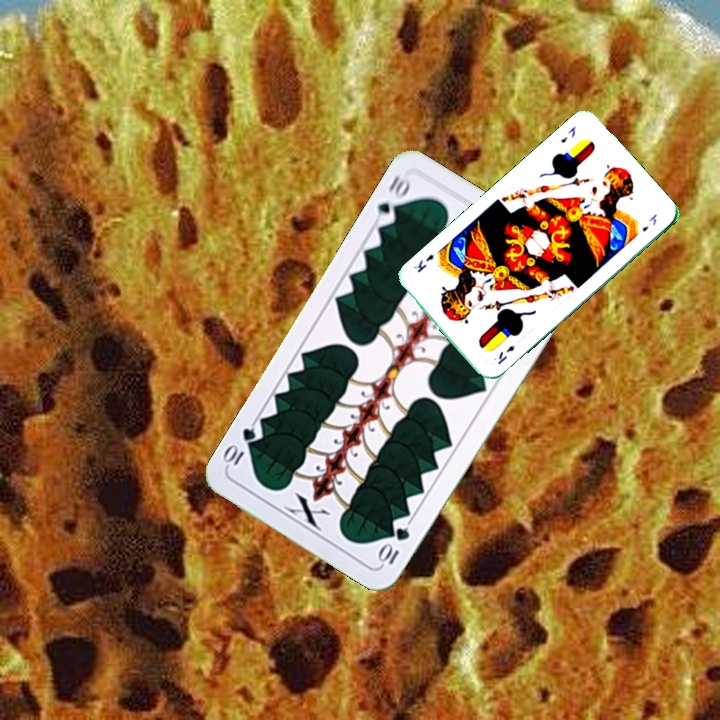EK: (494, 341, 517, 367), (556, 122, 578, 145)
G10: (371, 171, 413, 229), (375, 523, 413, 568)
